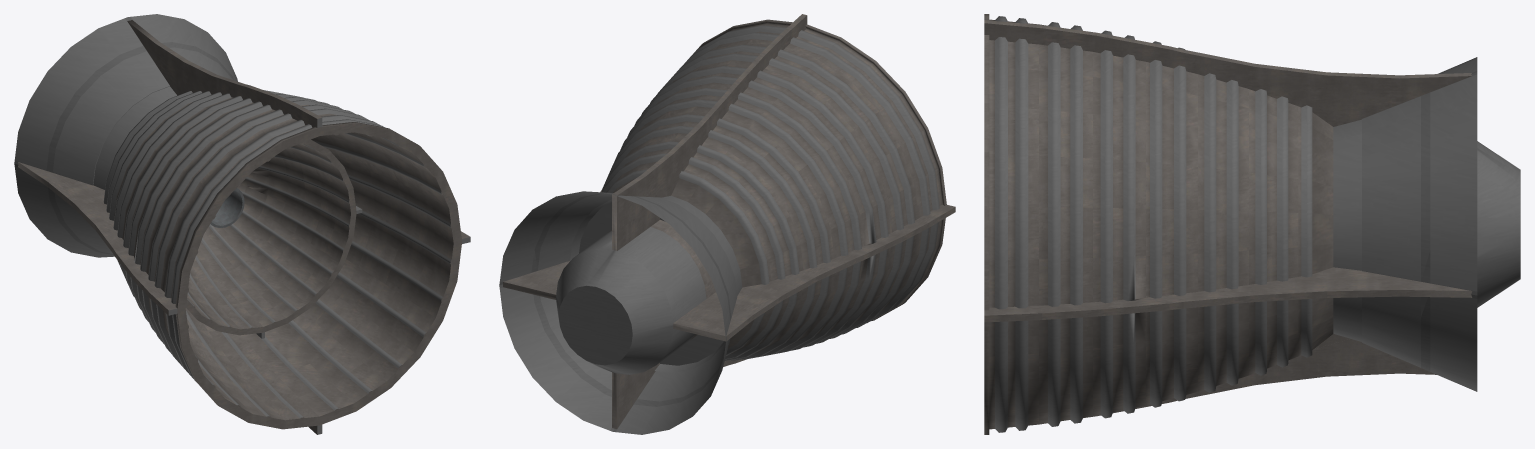
Rendered from thrusters.glb.
The picture shows the model from 3 angles, left to right: view 1: azimuth 30°, elevation 25°; view 2: azimuth 150°, elevation 25°; view 3: azimuth 270°, elevation 25°; orthographic projection. The views are drawn at different scales.
Parts seen in each view (by area): view 1: Nozzle_Main, Nozzle_Large, Nozzle_Small; view 2: Nozzle_Main, Nozzle_Large; view 3: Nozzle_Main, Nozzle_Large.
Boxes of the visible parts, bbox=[...] form: Nozzle_Main: bbox=[14, 14, 470, 434]; Nozzle_Large: bbox=[93, 86, 362, 338]; Nozzle_Small: bbox=[210, 188, 244, 227]; Nozzle_Main: bbox=[499, 14, 955, 434]; Nozzle_Large: bbox=[570, 195, 742, 372]; Nozzle_Main: bbox=[984, 14, 1520, 434]; Nozzle_Large: bbox=[1333, 119, 1361, 341].
Bounding box in the file's own units: 1.2 × 1.2 × 1.44.
Materials: 8 (7 with a texture image).
